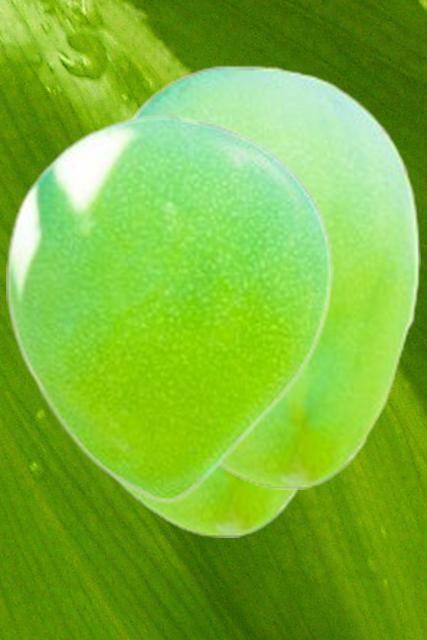green_mango: (6, 113, 332, 503), (127, 64, 419, 488), (105, 468, 302, 536)
